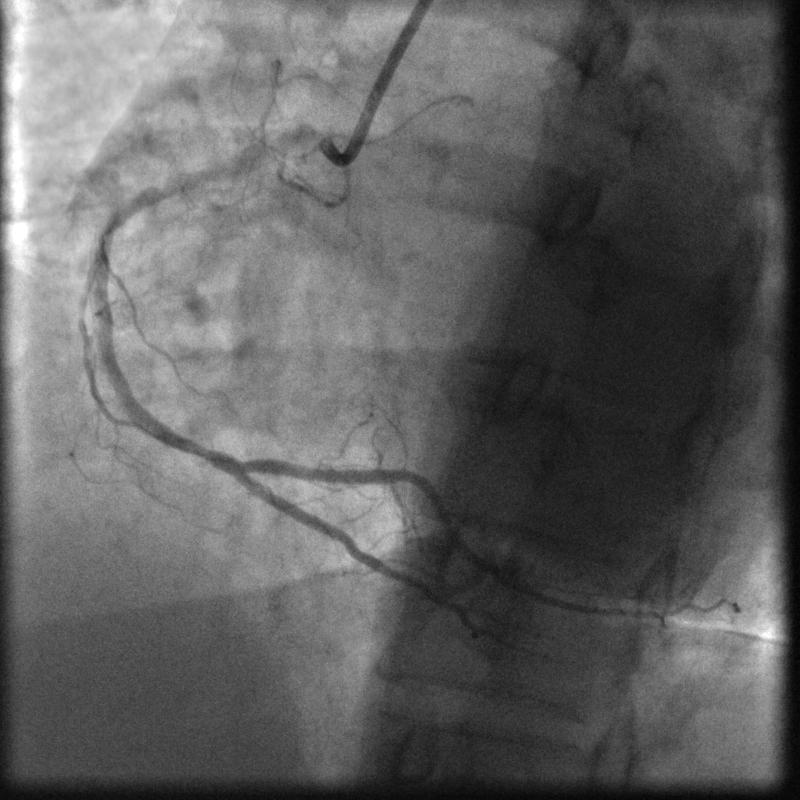Stenosis: (184, 426, 217, 468)
